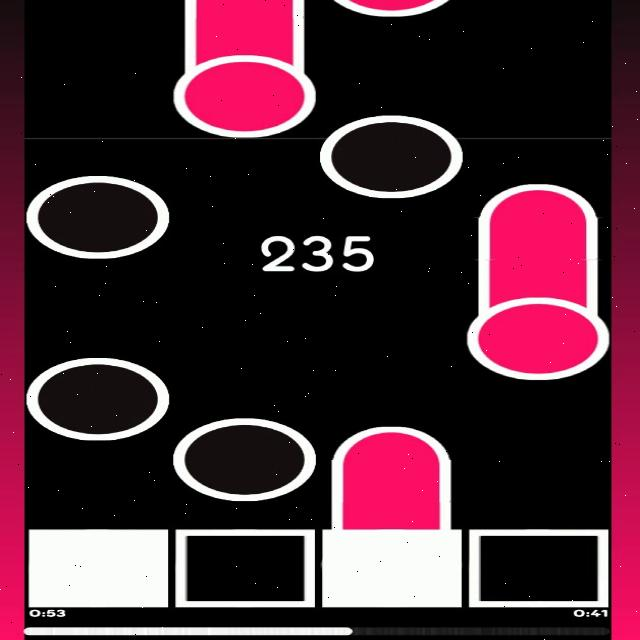end_hold: (331, 416, 454, 470), (476, 173, 599, 224)
note: (25, 172, 176, 264), (318, 111, 469, 200), (170, 415, 318, 502), (26, 354, 168, 443)
start_hold: (170, 41, 318, 138), (466, 281, 604, 375)
